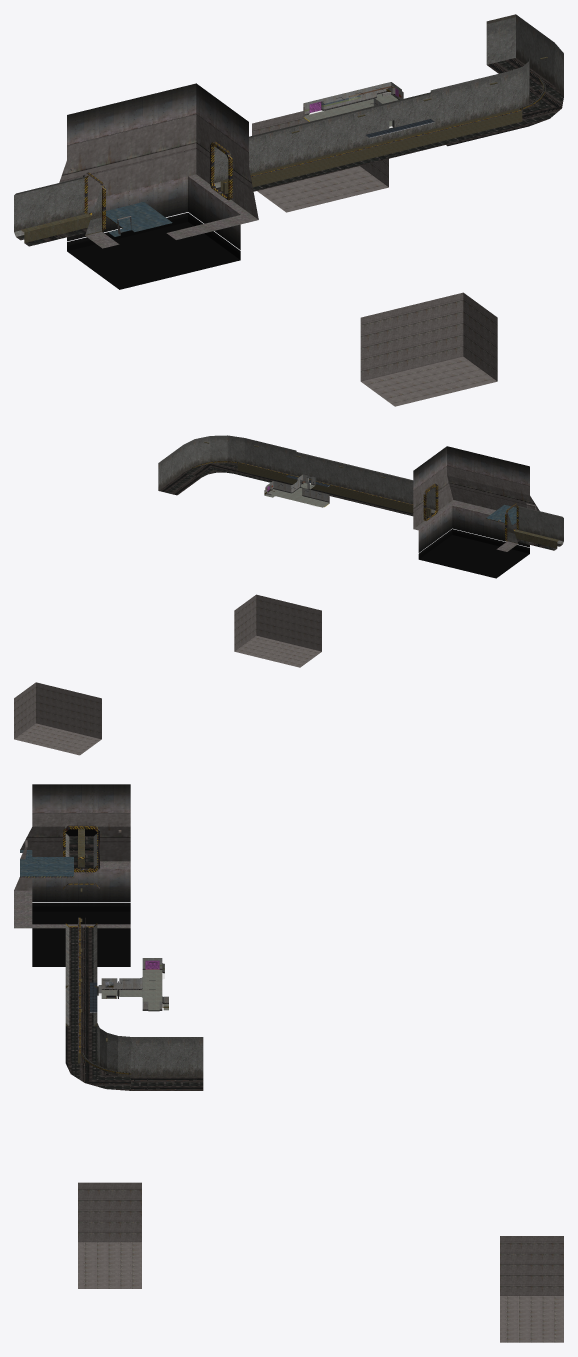
File: ba_security1.gltf
3 renders of one model, top to bottom at view 1: azimuth 30°, elevation 25°; view 2: azimuth 150°, elevation 25°; view 3: azimuth 270°, elevation 25°, orthographic. The views are drawn at different scales.
Visible parts, largest first — view 1: maps/ba_security1.bsp; view 2: maps/ba_security1.bsp; view 3: maps/ba_security1.bsp.
Part boxes in pixels (x1,y1,x2,y2): maps/ba_security1.bsp: [14, 14, 563, 406]; maps/ba_security1.bsp: [14, 435, 563, 755]; maps/ba_security1.bsp: [14, 784, 563, 1342].
Size of the model in its own units: 193 by 108 by 167.
252 materials, 251 textured.
